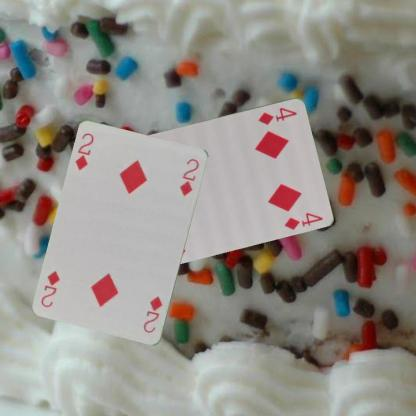2d: (140, 294, 164, 334), (73, 131, 95, 172)
4d: (255, 104, 299, 126)
